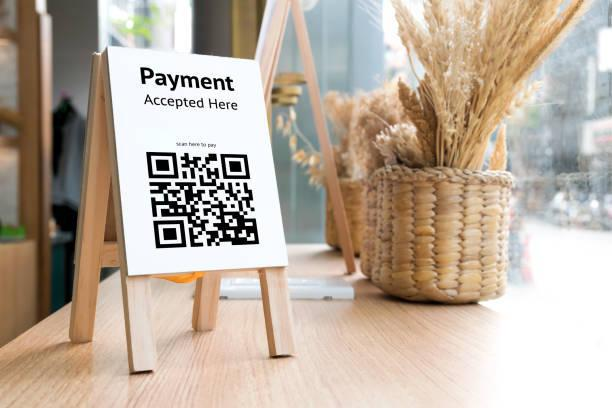Finder pattern: (216, 149, 254, 184), (150, 217, 190, 250)
